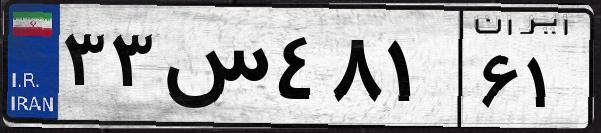1: (385, 28, 445, 110), (525, 38, 570, 115)
3: (57, 26, 110, 100), (110, 28, 158, 98)
4: (270, 28, 330, 110)
6: (475, 38, 525, 113)
8: (330, 28, 385, 110)
س: (158, 20, 270, 120)
